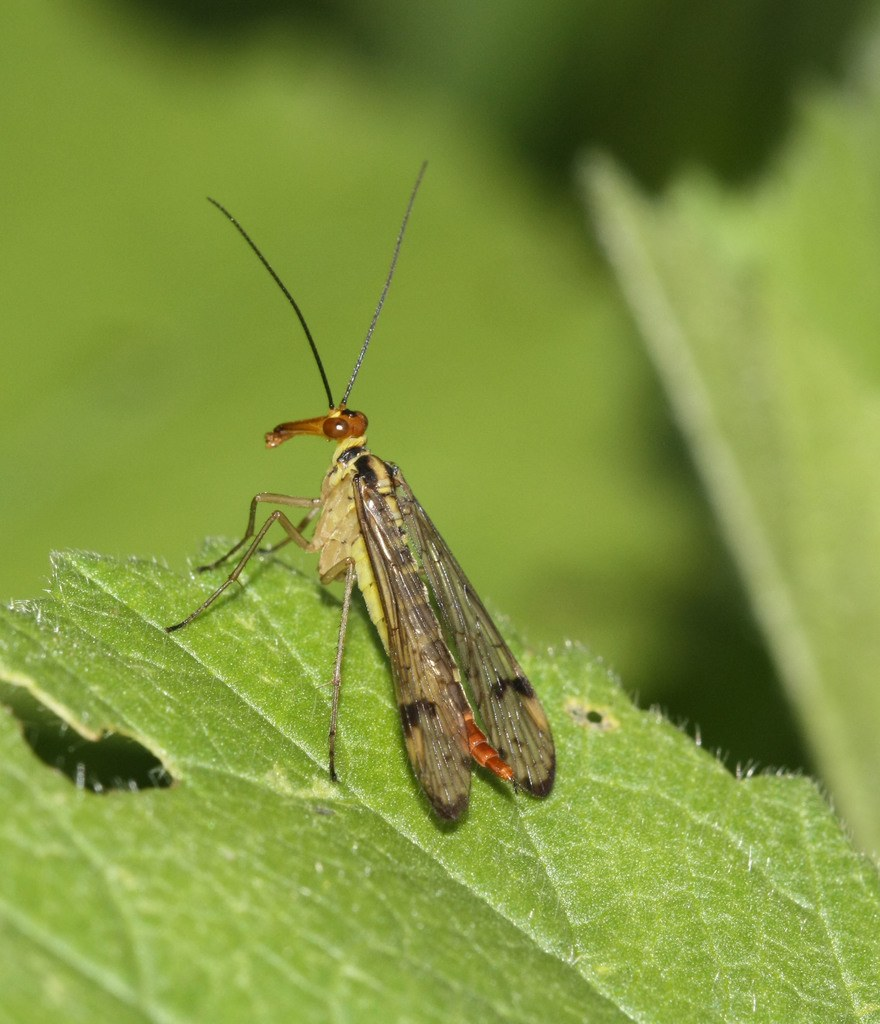insect: (161, 163, 554, 824)
